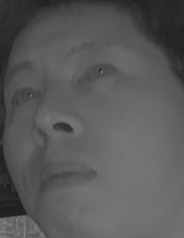eye: (74, 60, 120, 86), (6, 85, 42, 110)
mouth: (35, 157, 100, 197)
